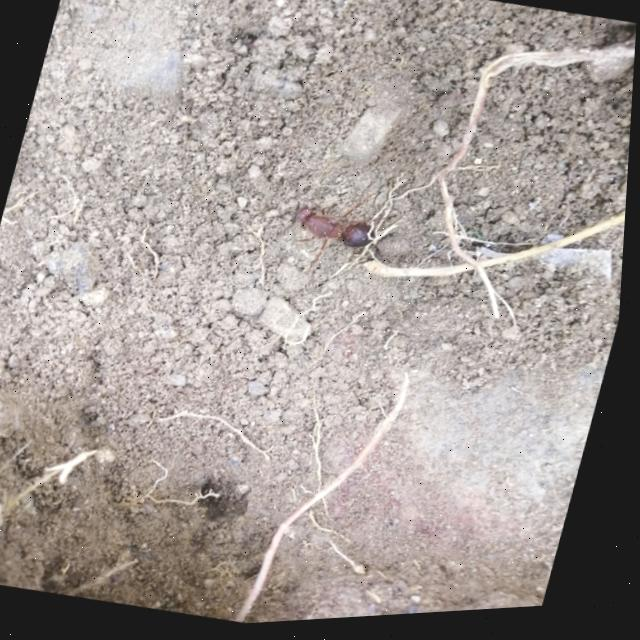Alive-Female-Dealate: (280, 181, 405, 295)
